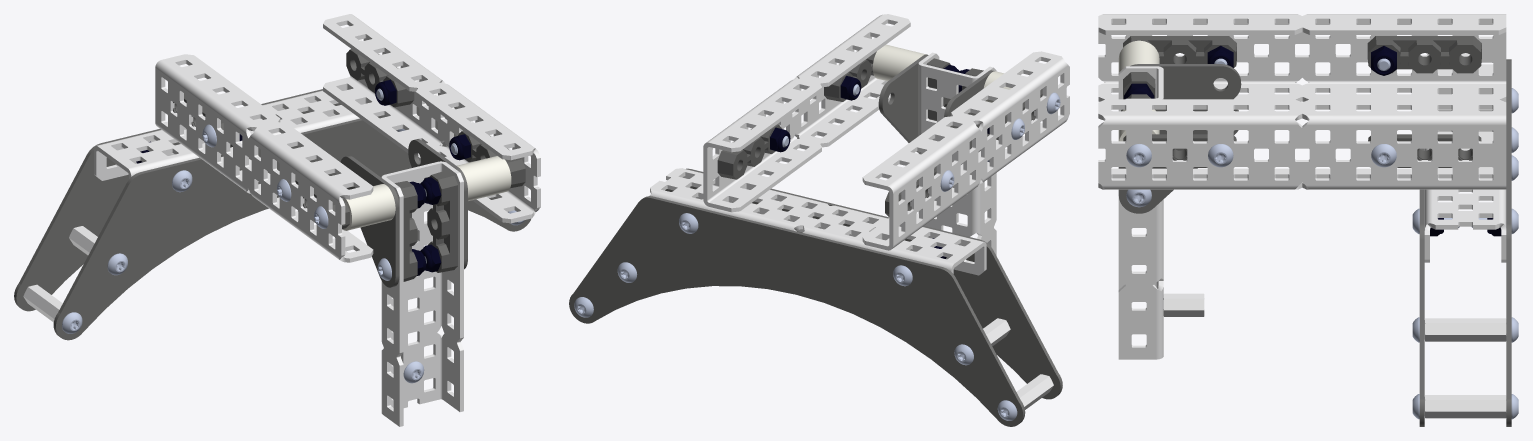
File: Back Clamp Assembly.fbx
3 views of the same model, side by side, from view 1: azimuth 30°, elevation 25°; view 2: azimuth 150°, elevation 25°; view 3: azimuth 270°, elevation 25° (orthographic). The views are drawn at different scales.
Visible parts, largest first — view 1: Body1 (×12), Body3 (×2), Body2 (×2); view 2: Body1 (×10), Body2 (×2), Body3; view 3: Body1 (×18), Body2 (×3), Body3.
Boxes of the visible parts, x1,y1,x2,y2 form: Body1 (×12): [14, 14, 540, 426]; Body3 (×2): [342, 156, 511, 230]; Body2 (×2): [23, 226, 97, 322]; Body1 (×10): [569, 14, 1069, 426]; Body2 (×2): [983, 318, 1053, 409]; Body3: [872, 44, 926, 81]; Body1 (×18): [1098, 14, 1511, 426]; Body2 (×3): [1163, 293, 1506, 418]; Body3: [1118, 40, 1159, 72].
Bounding box in the file's own units: 7.41 × 3.75 × 5.15.
